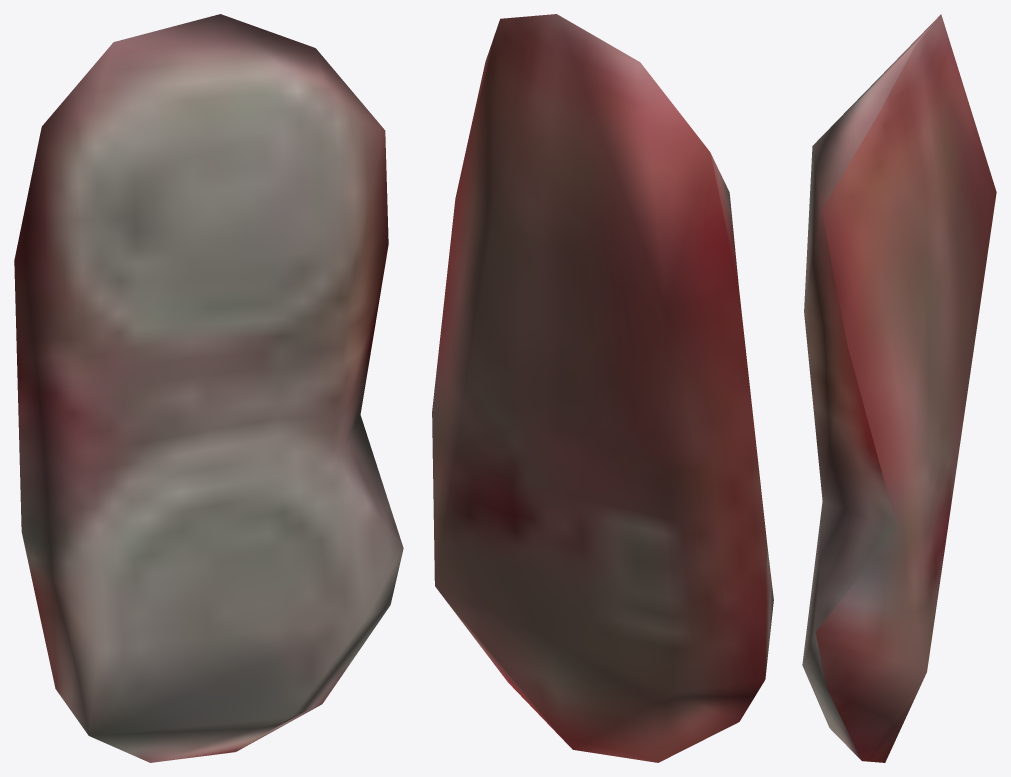
Rendered from squashed_can.glb.
3 views of the same model, side by side, from view 1: azimuth 30°, elevation 25°; view 2: azimuth 150°, elevation 25°; view 3: azimuth 270°, elevation 25° (orthographic). The views are drawn at different scales.
Parts seen in each view (by area): view 1: squashed_can; view 2: squashed_can; view 3: squashed_can.
Part boxes in pixels (box(x1,y1,x2,y2)): squashed_can: box(14, 14, 403, 762); squashed_can: box(432, 14, 773, 762); squashed_can: box(802, 14, 996, 762).
Size of the model in its own units: 0.0751 by 0.1558 by 0.0382.
Materials: 1 (1 with a texture image).
